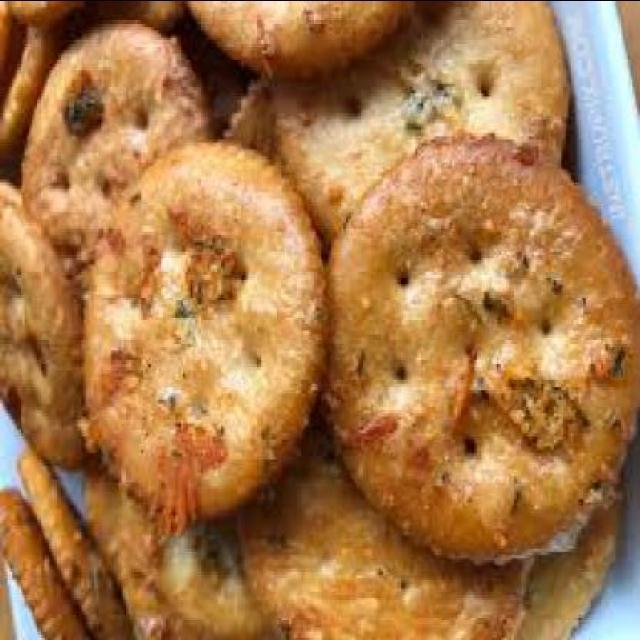Ritz cracker packaged: (9, 9, 626, 634)
